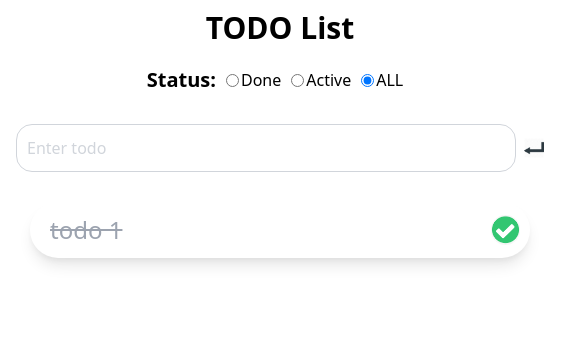
Test: TodoApp › create more than 1 todo
The width and height of the screenshot is (561, 350).
Type "todo 2" into the field with test id "test-input" at (266, 148), box [16,124,516,172]
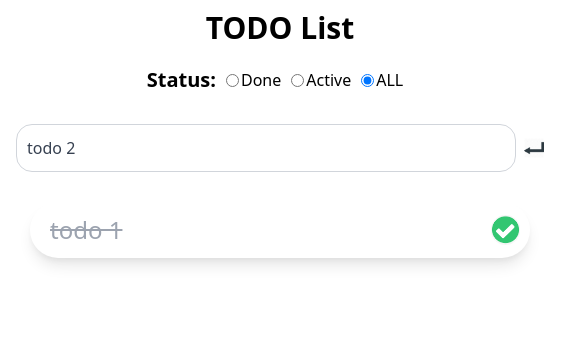
Submit the form with test id "form", box [16,124,544,172]
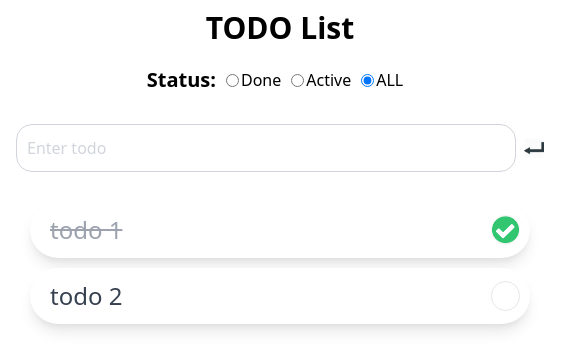
Expected: the number of elements with class "todo-content" is 2, [50,213,122,246]; [50,279,122,312]
